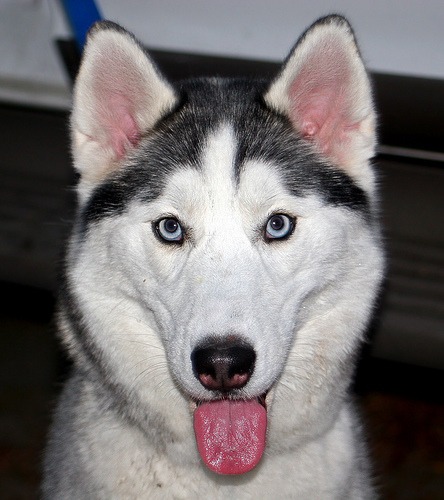dog: (42, 13, 387, 498)
